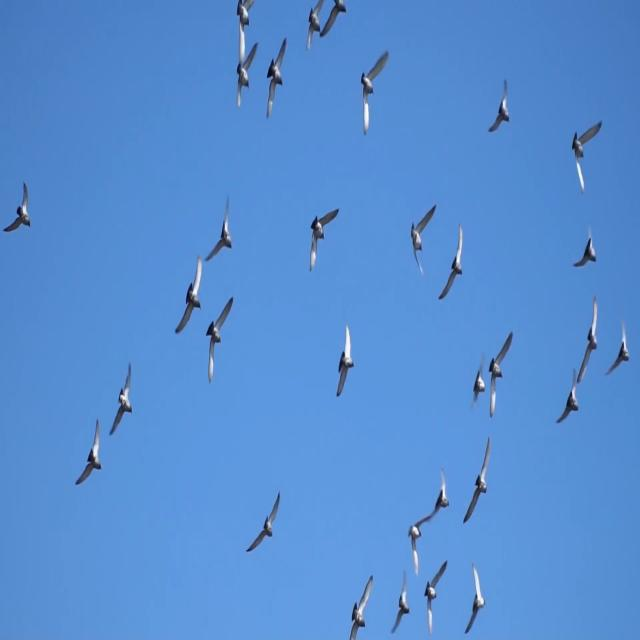bird: (204, 293, 237, 386), (359, 45, 390, 138), (462, 434, 493, 526), (570, 117, 604, 196), (575, 292, 604, 384), (407, 502, 442, 578), (173, 252, 203, 338), (488, 329, 514, 421), (245, 489, 281, 555), (204, 192, 236, 264), (437, 221, 465, 303), (107, 358, 135, 439), (263, 33, 289, 120), (308, 207, 341, 275), (422, 559, 450, 637), (410, 200, 438, 276), (74, 415, 102, 488), (234, 30, 259, 109), (348, 573, 376, 640), (463, 561, 488, 636), (1, 178, 32, 237), (335, 320, 356, 400), (235, 0, 257, 73), (604, 317, 630, 377), (389, 568, 412, 635), (554, 366, 579, 426), (487, 78, 511, 134), (571, 223, 599, 271), (318, 0, 349, 39), (304, 0, 326, 52), (469, 352, 488, 412), (434, 466, 451, 514)
